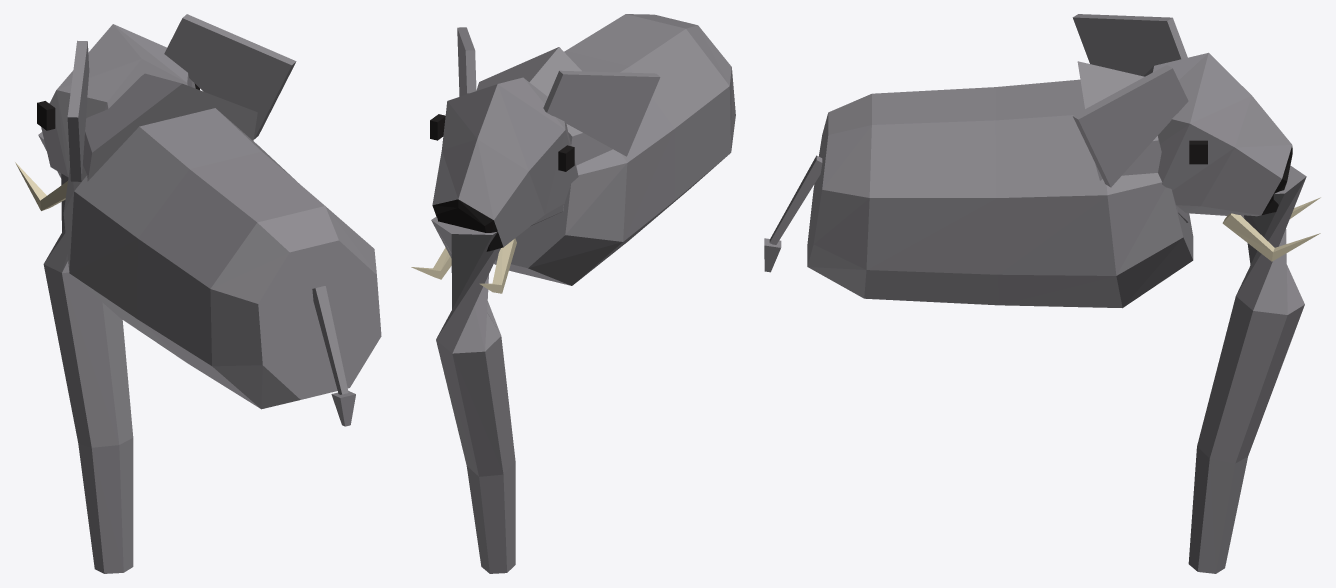
The model's file is animal_elephant.obj.
3 views of the same model, side by side, from view 1: azimuth 30°, elevation 25°; view 2: azimuth 150°, elevation 25°; view 3: azimuth 270°, elevation 25° (orthographic). The views are drawn at different scales.
Visible parts, largest first — view 1: animal_elephant; view 2: animal_elephant; view 3: animal_elephant.
Boxes of the visible parts, box(x1,y1,x2,y2) form: animal_elephant: box(15, 14, 381, 573); animal_elephant: box(411, 14, 735, 573); animal_elephant: box(764, 14, 1320, 573).
Bounding box in the file's own units: 1.28 × 2.97 × 2.86.
